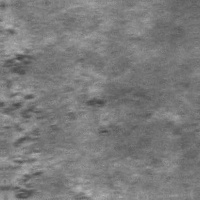rolled-in_scale: (0, 82, 66, 200), (75, 79, 178, 141), (0, 11, 40, 89)
